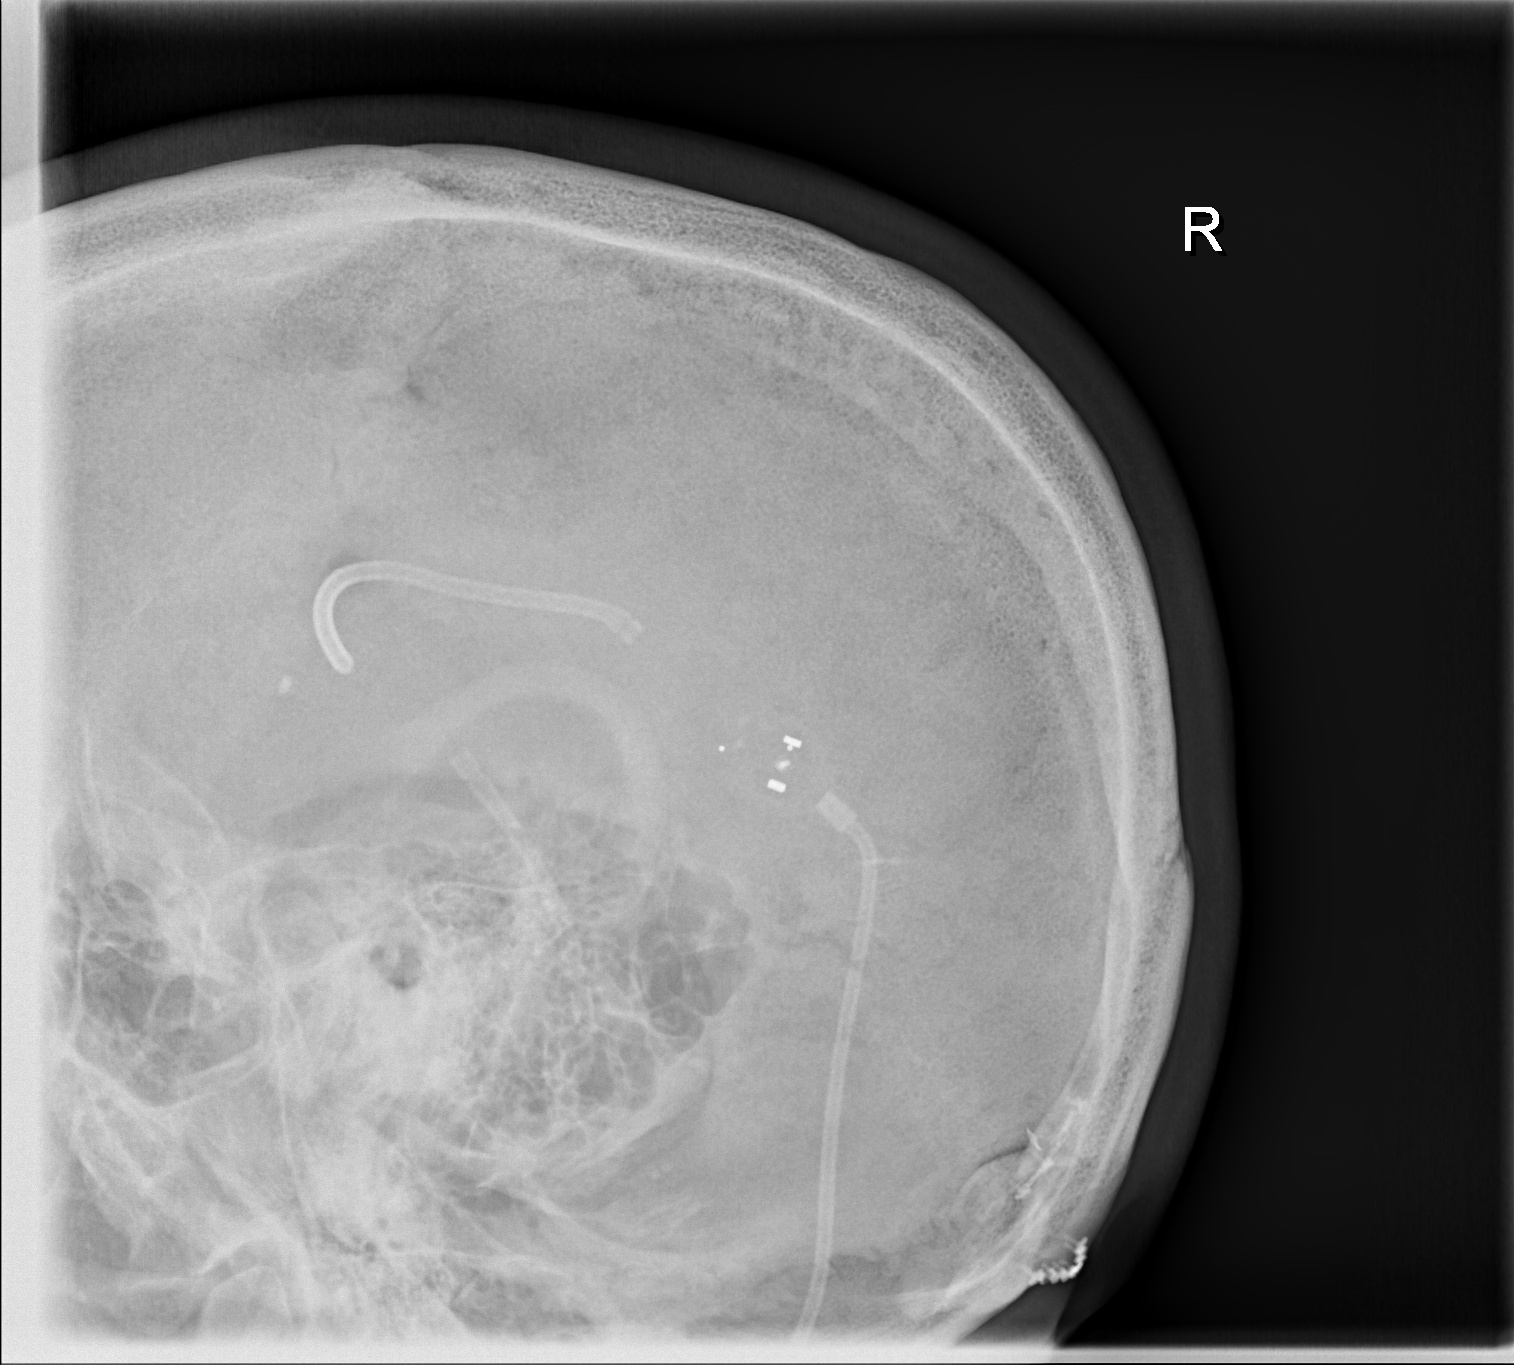Codman Certas: (701, 698, 833, 817)
